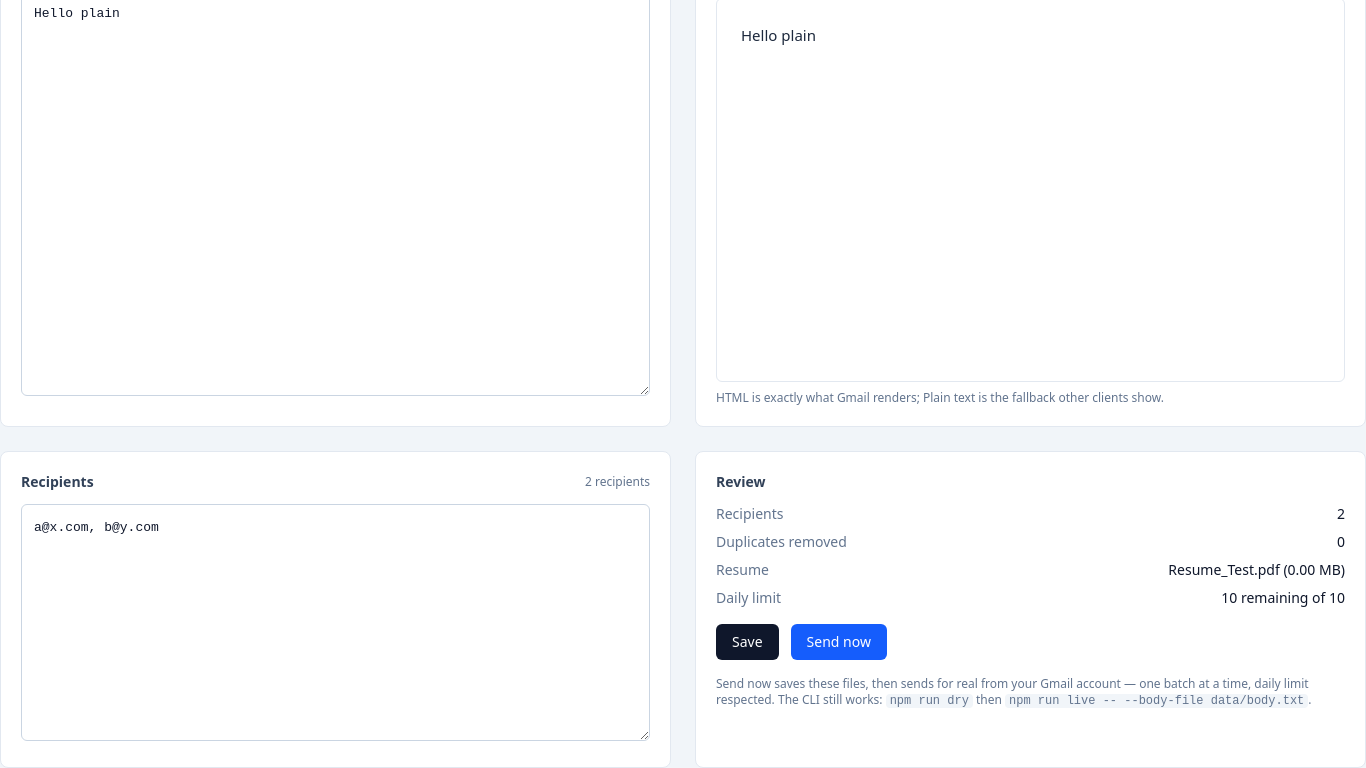
Test: ComposeClient › saves via the injected action and reports success
(page scrolled)
Click the button "Save" at (747, 642), box [716, 624, 779, 660]
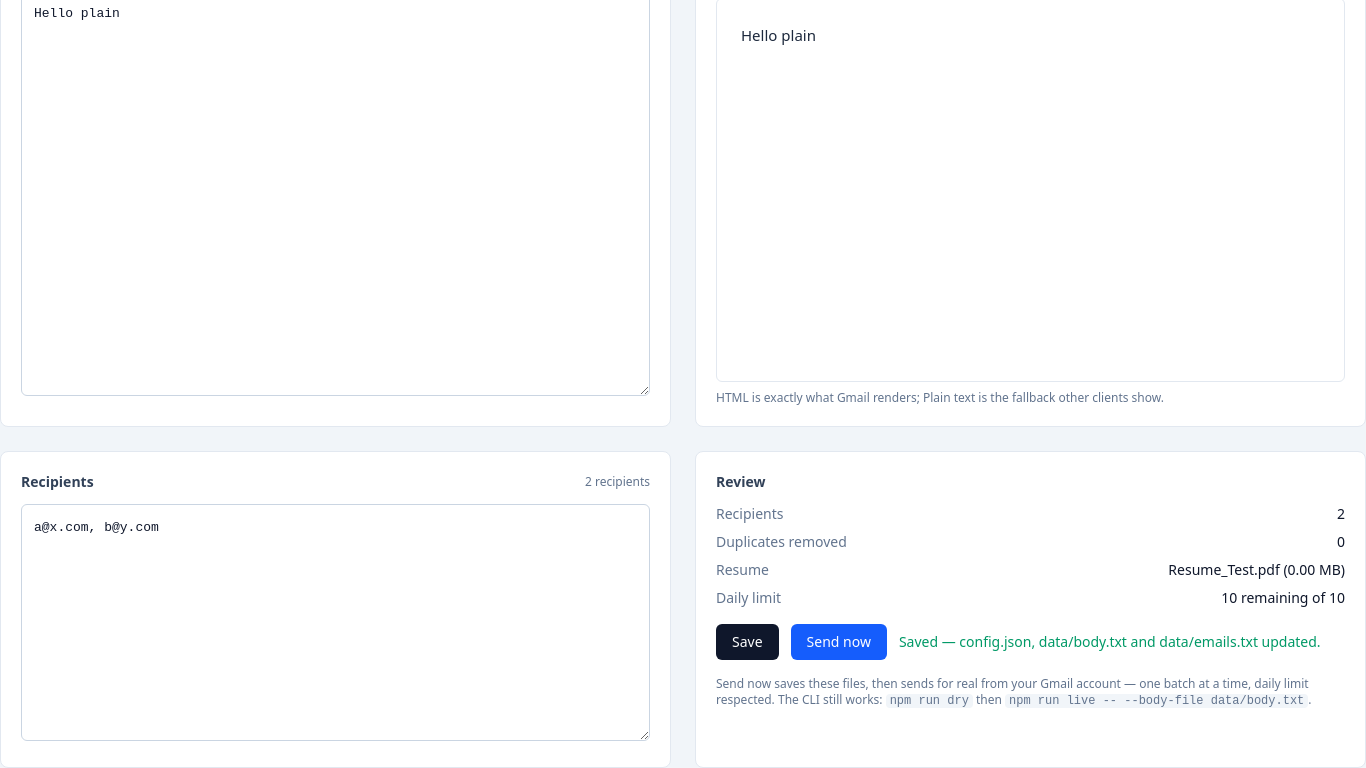
Expected: the text "Saved" is shown, [899, 632, 1321, 651]
